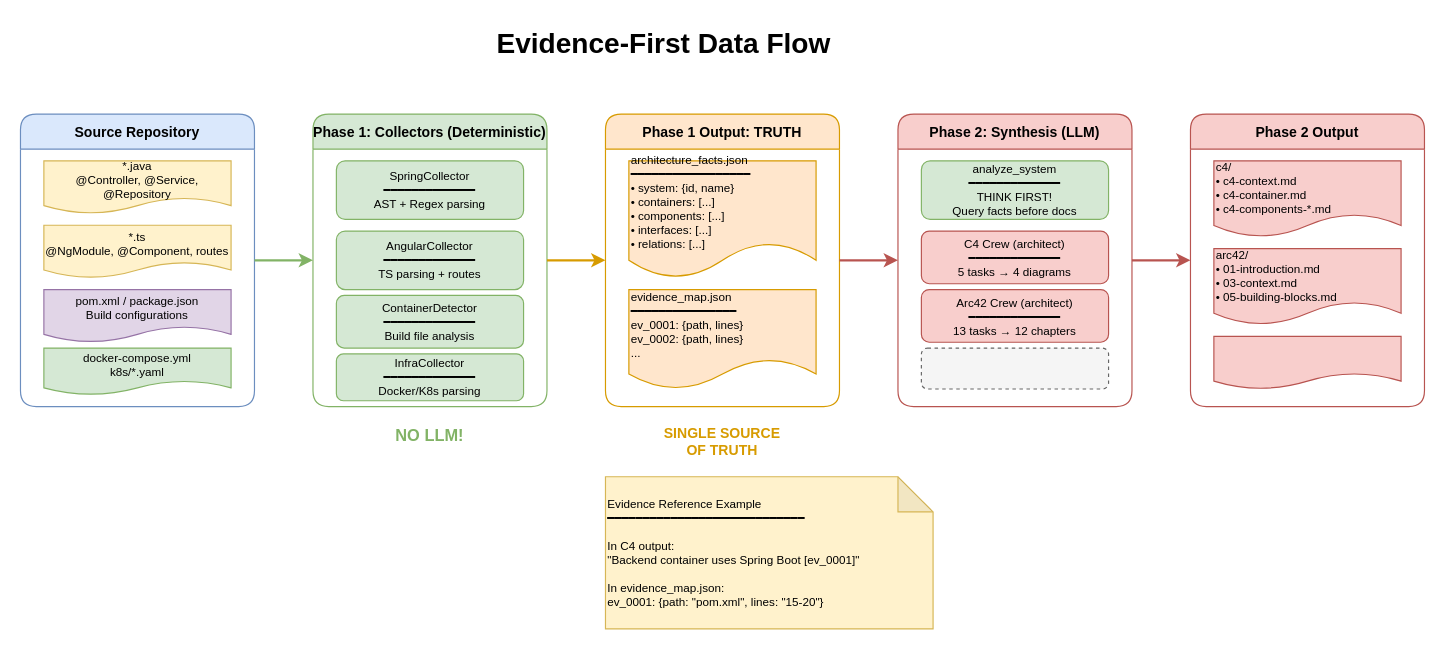
This 1445x649 diagram has some shape labels left out. The shapes that lost their labels are listed below. From the top down, each one's centre as x and y in pixels, then its label:
pixel 1014 368: Quality Gate (Phase 3 - Planned)
pixel 1307 362: quality/ • synthesis-report.md
